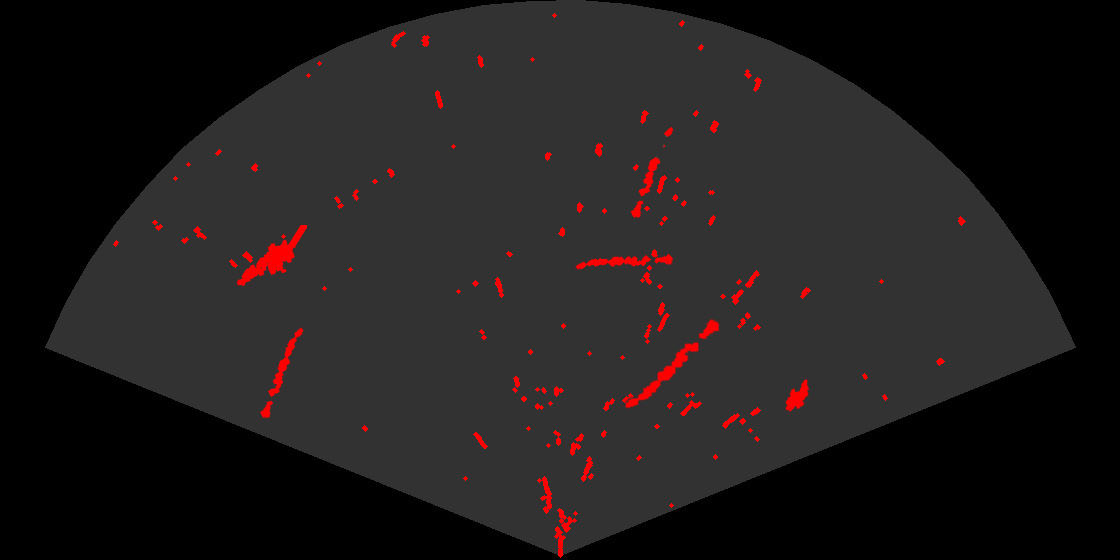AUV: (784, 377, 811, 413)
chain: (623, 317, 721, 410), (258, 326, 305, 420), (629, 125, 675, 220), (574, 252, 674, 271)
frogman: (235, 225, 307, 288)
